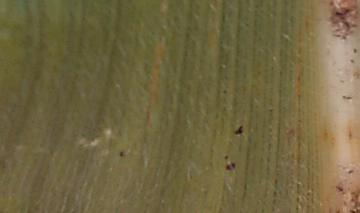tarspot: (333, 8, 349, 16), (233, 125, 244, 135), (341, 94, 353, 102), (334, 184, 344, 192), (348, 57, 356, 65), (342, 21, 350, 29), (224, 163, 231, 171), (346, 168, 354, 175), (337, 16, 346, 22), (349, 208, 359, 213), (221, 88, 228, 95), (118, 150, 124, 158), (230, 161, 236, 168), (222, 154, 228, 160), (352, 48, 357, 54)
